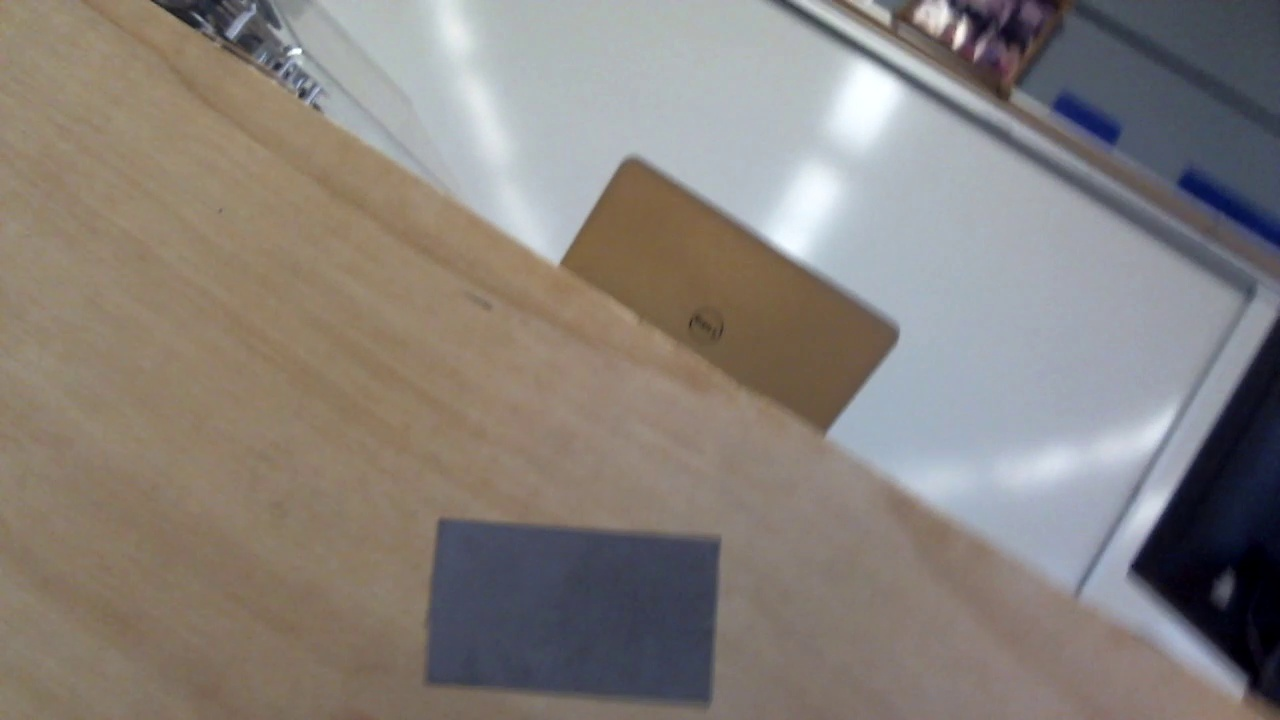Tape: (426, 518, 721, 713)
